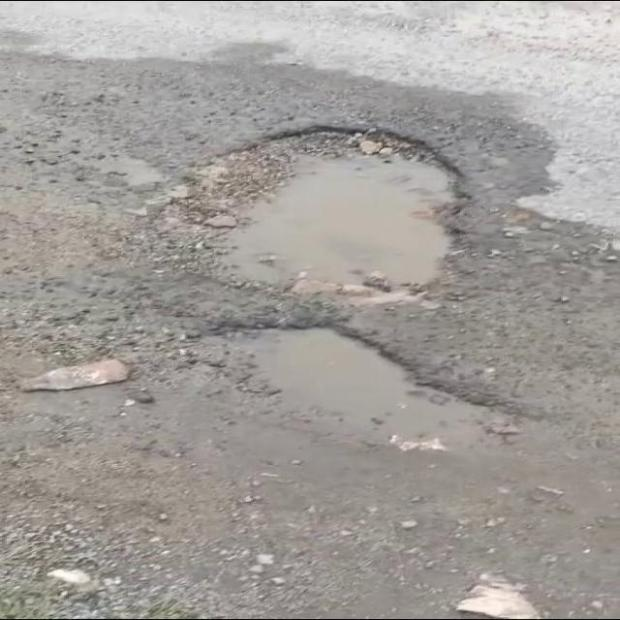lubang: (160, 132, 453, 294), (203, 329, 517, 453)
